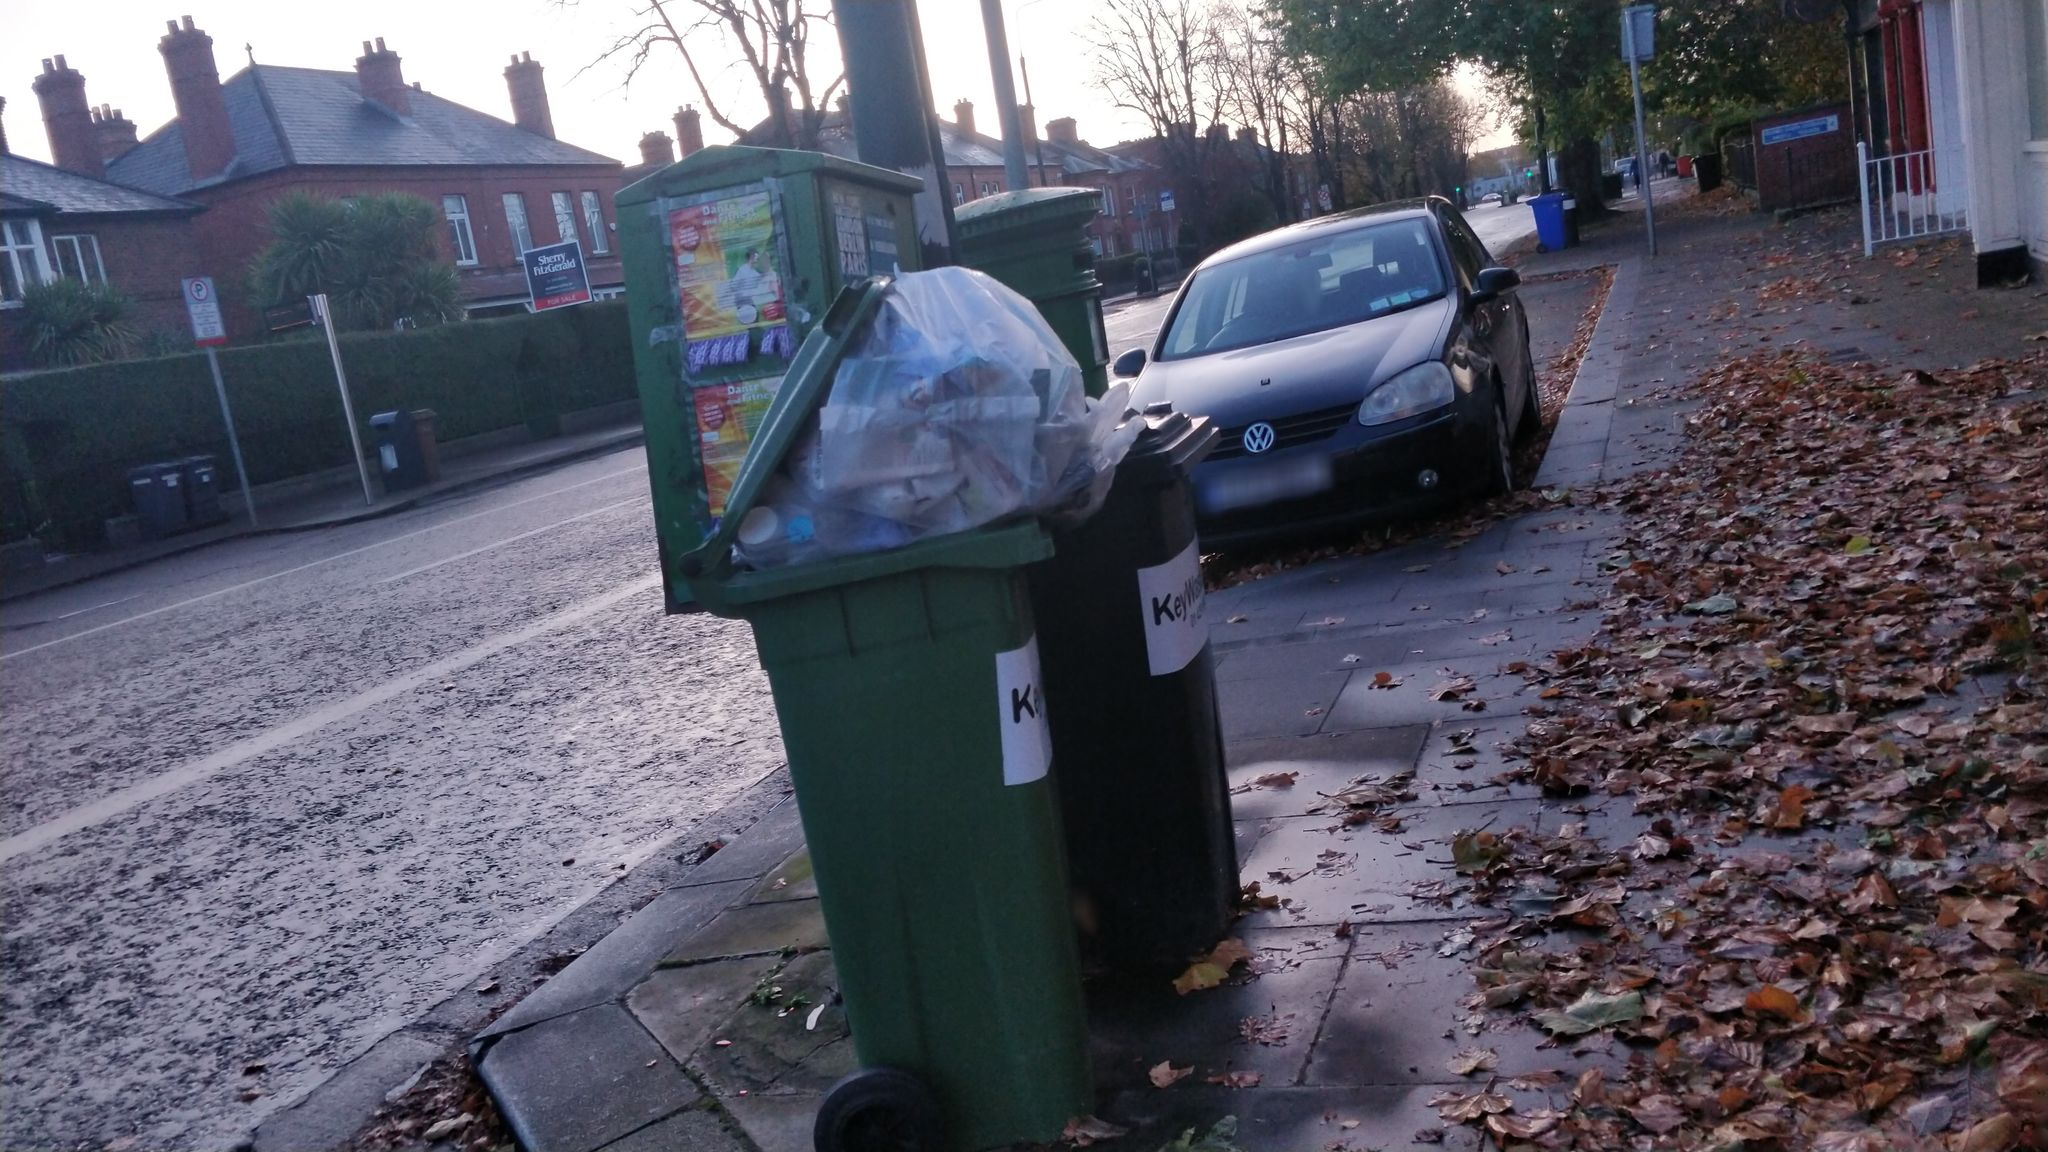property sign: (506, 225, 603, 316)
